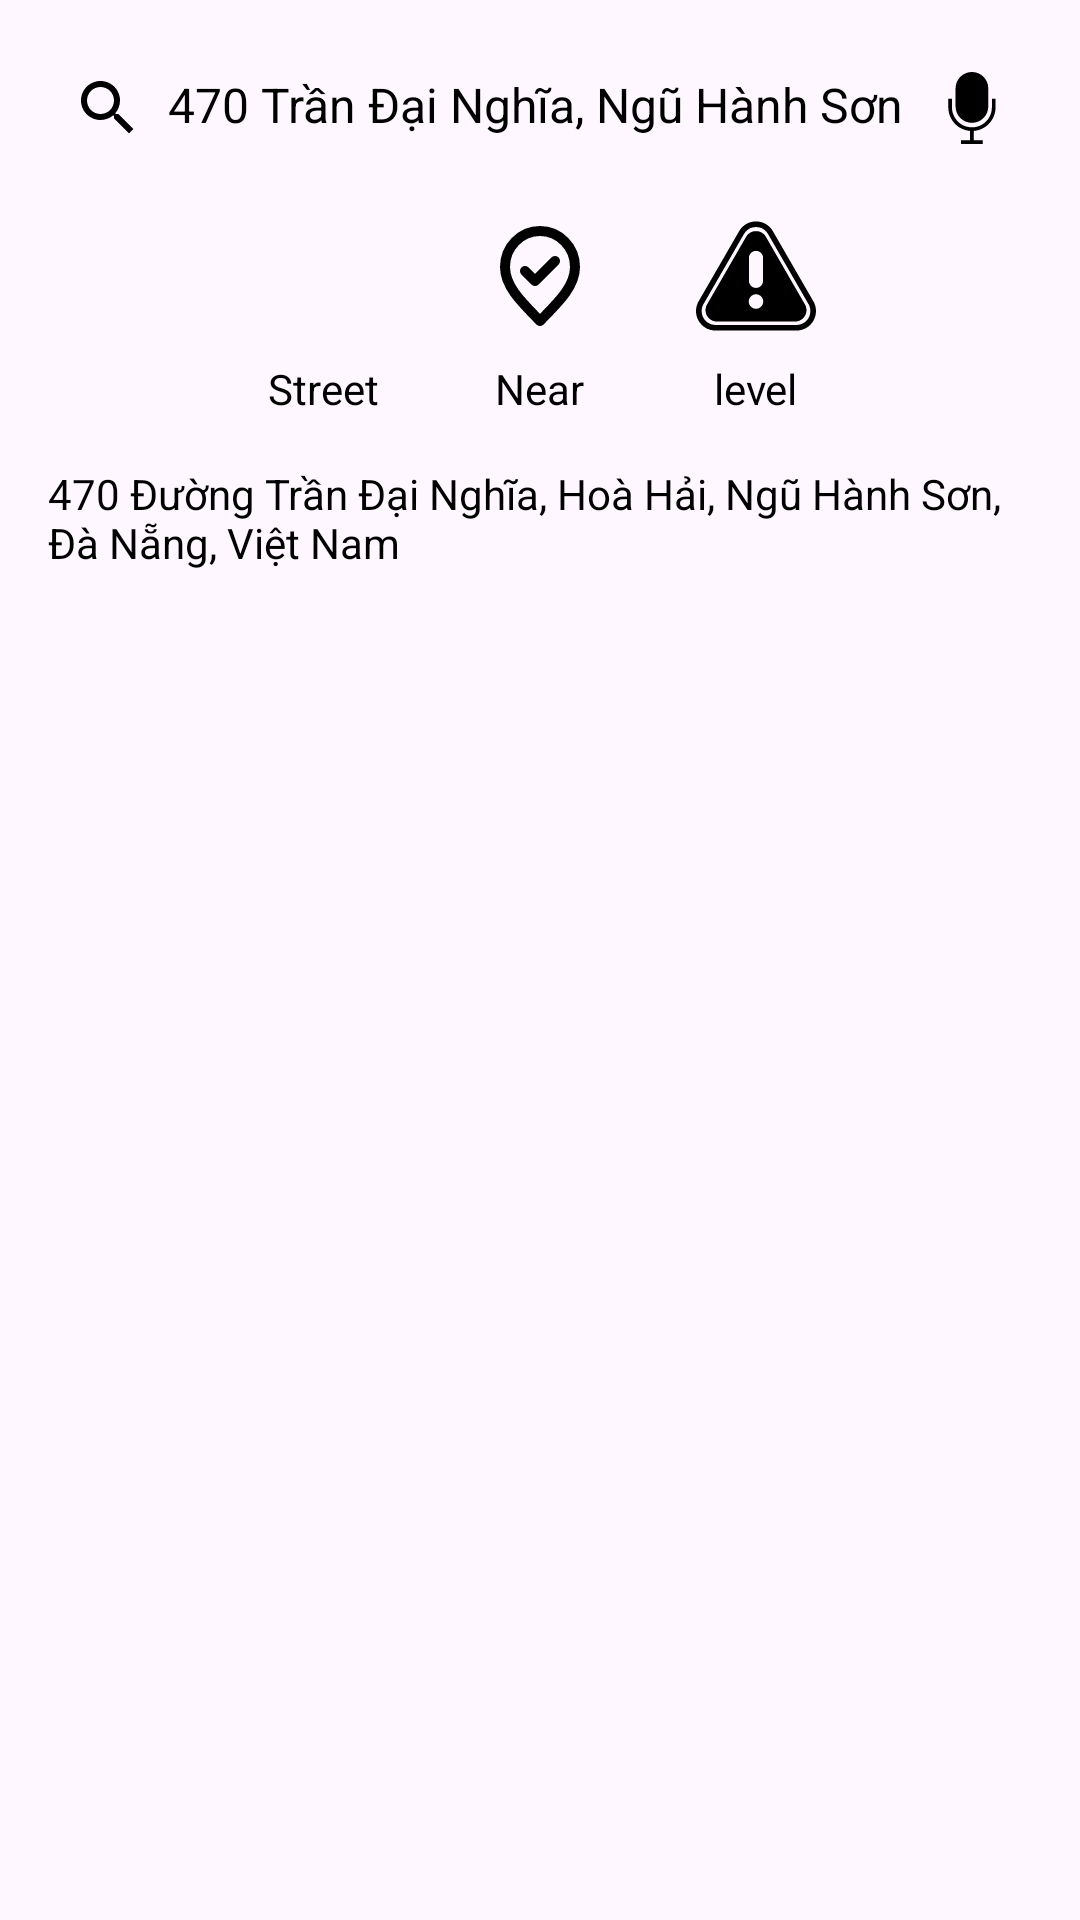

Icons on this 1080×1920 Android screen, each with its box as (x1, y1, x2, y2):
danger: (696, 221, 816, 331)
location: (500, 226, 580, 326)
mic: (948, 72, 996, 144)
search: (81, 81, 133, 133)
